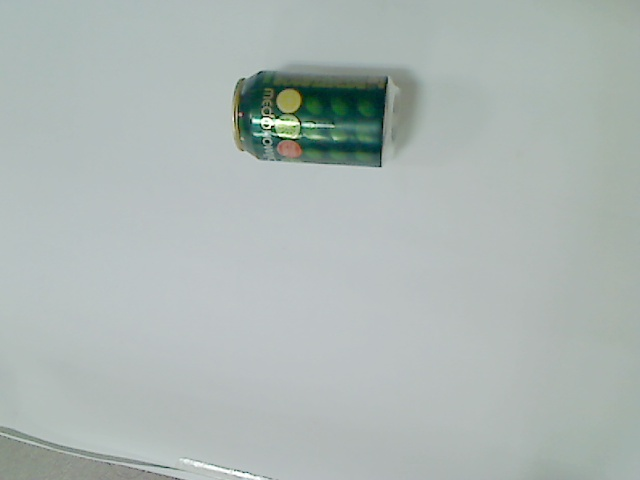can: (229, 68, 404, 169)
